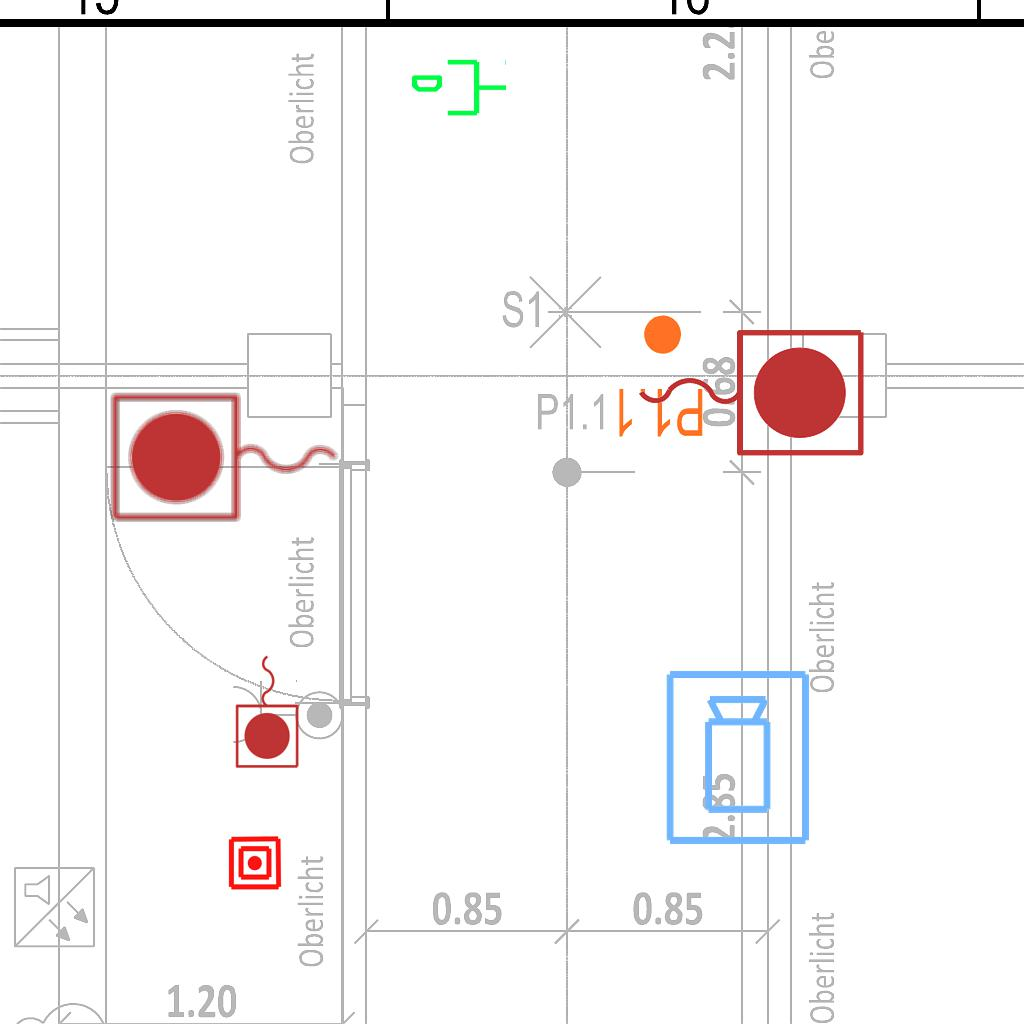Datenanschluss_einfach: (409, 55, 509, 124)
Downlight_LED_Einbauleuchten_Flur: (613, 312, 706, 440)
KFO_Kamera_mit_Festobjektiv: (662, 667, 816, 849)
NAM-Nichtautomatischer_Melder: (227, 835, 283, 891)
Zugtaster: (104, 387, 348, 531), (628, 319, 872, 463), (232, 650, 304, 772)
